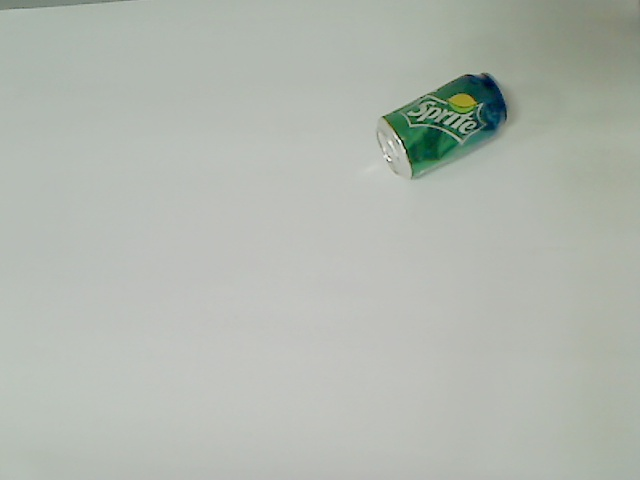can: (373, 71, 511, 183)
